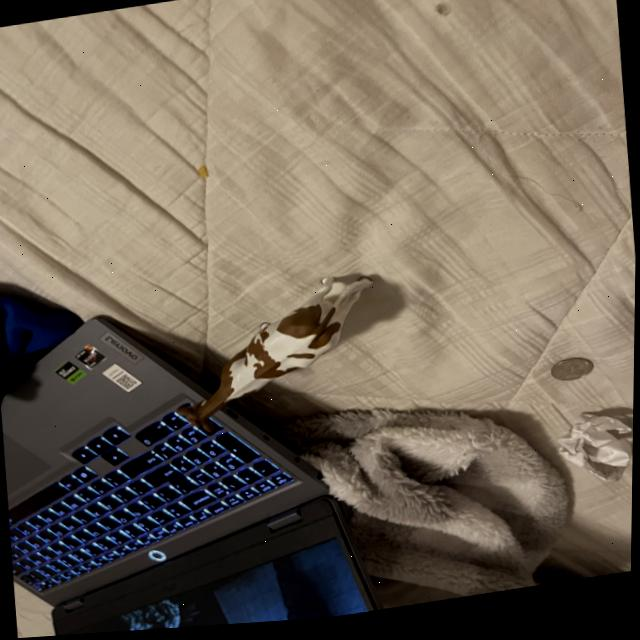cow: (169, 258, 390, 449)
